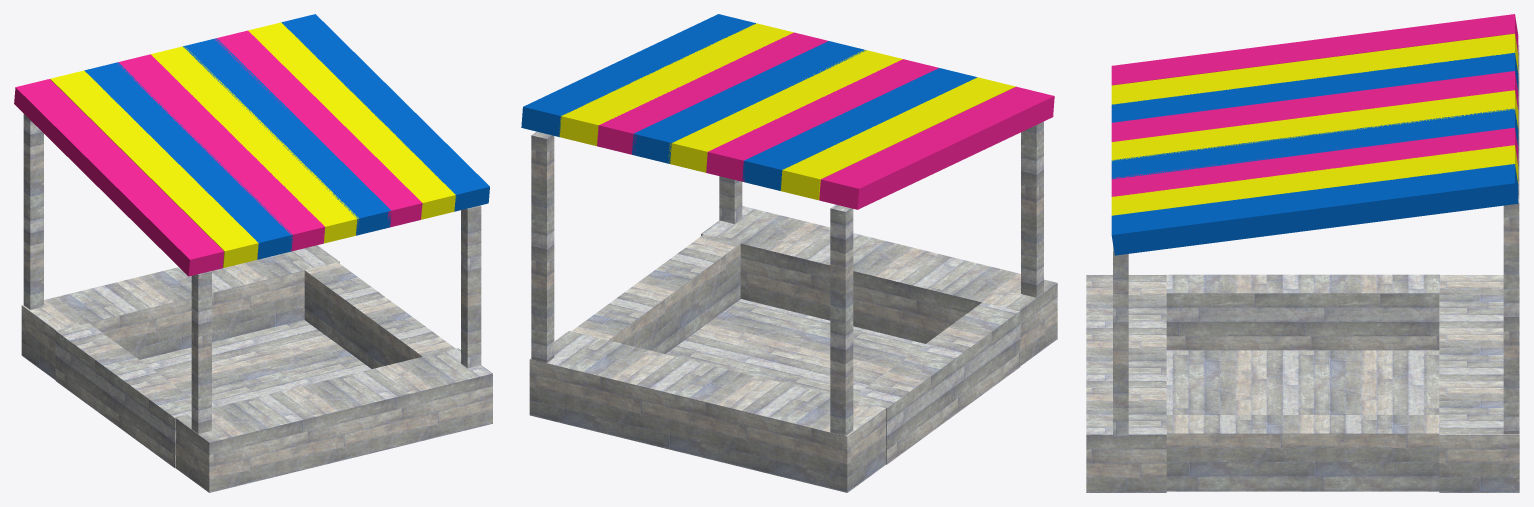
Rendered from carpa.obj.
The picture shows the model from 3 angles, left to right: view 1: azimuth 30°, elevation 25°; view 2: azimuth 150°, elevation 25°; view 3: azimuth 270°, elevation 25°; orthographic projection. The views are drawn at different scales.
Parts seen in each view (by area): view 1: Part10, Part5, Part2, Part16, Part7, Part6, Part14, Part1, Part18, Part13, Part8, Part3 (+5 smaller); view 2: Part5, Part10, Part16, Part7, Part6, Part2, Part14, Part8, Part3, Part1, Part9, Part13 (+6 smaller); view 3: Part6, Part16, Part7, Part1, Part5, Part10, Part2, Part18, Part3, Part14, Part13, Part9 (+4 smaller).
Boxes of the visible parts, box(x1,y1,x2,y2) form: Part10: box(175, 348, 492, 492); Part5: box(21, 245, 339, 379); Part2: box(14, 79, 224, 276); Part16: box(55, 323, 191, 468); Part7: box(140, 320, 371, 407); Part6: box(304, 262, 455, 368); Part14: box(50, 70, 258, 267); Part1: box(281, 14, 489, 211); Part18: box(117, 54, 325, 251); Part13: box(151, 46, 358, 243); Part8: box(84, 62, 292, 259); Part3: box(183, 38, 391, 235); Part5: box(529, 331, 885, 492); Part10: box(701, 206, 1057, 365); Part16: box(853, 302, 1020, 464); Part7: box(666, 299, 924, 396); Part6: box(571, 234, 740, 354); Part2: box(819, 86, 1054, 209); Part14: box(780, 77, 1015, 200); Part8: box(742, 68, 977, 190); Part3: box(632, 41, 866, 163); Part1: box(521, 14, 755, 137); Part9: box(559, 23, 793, 146); Part13: box(668, 50, 902, 172); Part6: box(1166, 415, 1439, 491); Part16: box(1164, 274, 1439, 350); Part7: box(1166, 350, 1439, 414); Part1: box(1111, 164, 1518, 255); Part5: box(1439, 275, 1519, 492); Part10: box(1086, 275, 1166, 492); Part2: box(1111, 14, 1518, 85); Part18: box(1111, 71, 1518, 141); Part3: box(1111, 108, 1518, 179); Part14: box(1111, 33, 1518, 104); Part13: box(1111, 90, 1518, 161); Part9: box(1111, 145, 1518, 215).
Bounding box in the file's own units: 25.5 × 22.08 × 27.6.
12 materials, 9 textured.
